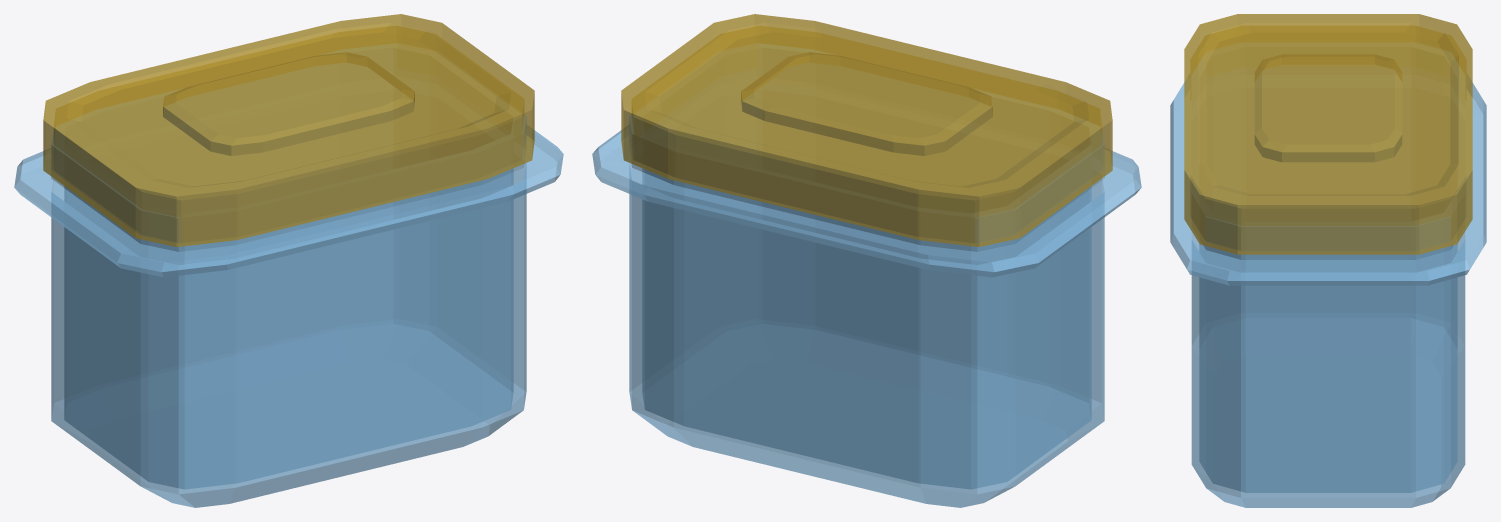
Rendered from tupper 04.fbx.
The picture shows the model from 3 angles, left to right: view 1: azimuth 30°, elevation 25°; view 2: azimuth 150°, elevation 25°; view 3: azimuth 270°, elevation 25°; orthographic projection.
Parts seen in each view (by area): view 1: tupper.003, tapa tupper.003; view 2: tupper.003, tapa tupper.003; view 3: tupper.003, tapa tupper.003.
Boxes of the visible parts, box(x1,y1,x2,y2) form: tupper.003: box(14, 44, 563, 507); tapa tupper.003: box(43, 14, 534, 246); tupper.003: box(592, 44, 1141, 507); tapa tupper.003: box(621, 14, 1112, 246); tupper.003: box(1170, 55, 1486, 507); tapa tupper.003: box(1184, 14, 1472, 254).
Size of the model in its own units: 18.5 by 11.56 by 13.36.
